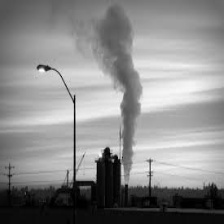smoke: (95, 15, 152, 136)
